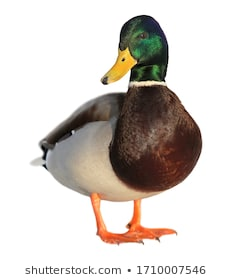duck: (13, 1, 205, 258)
